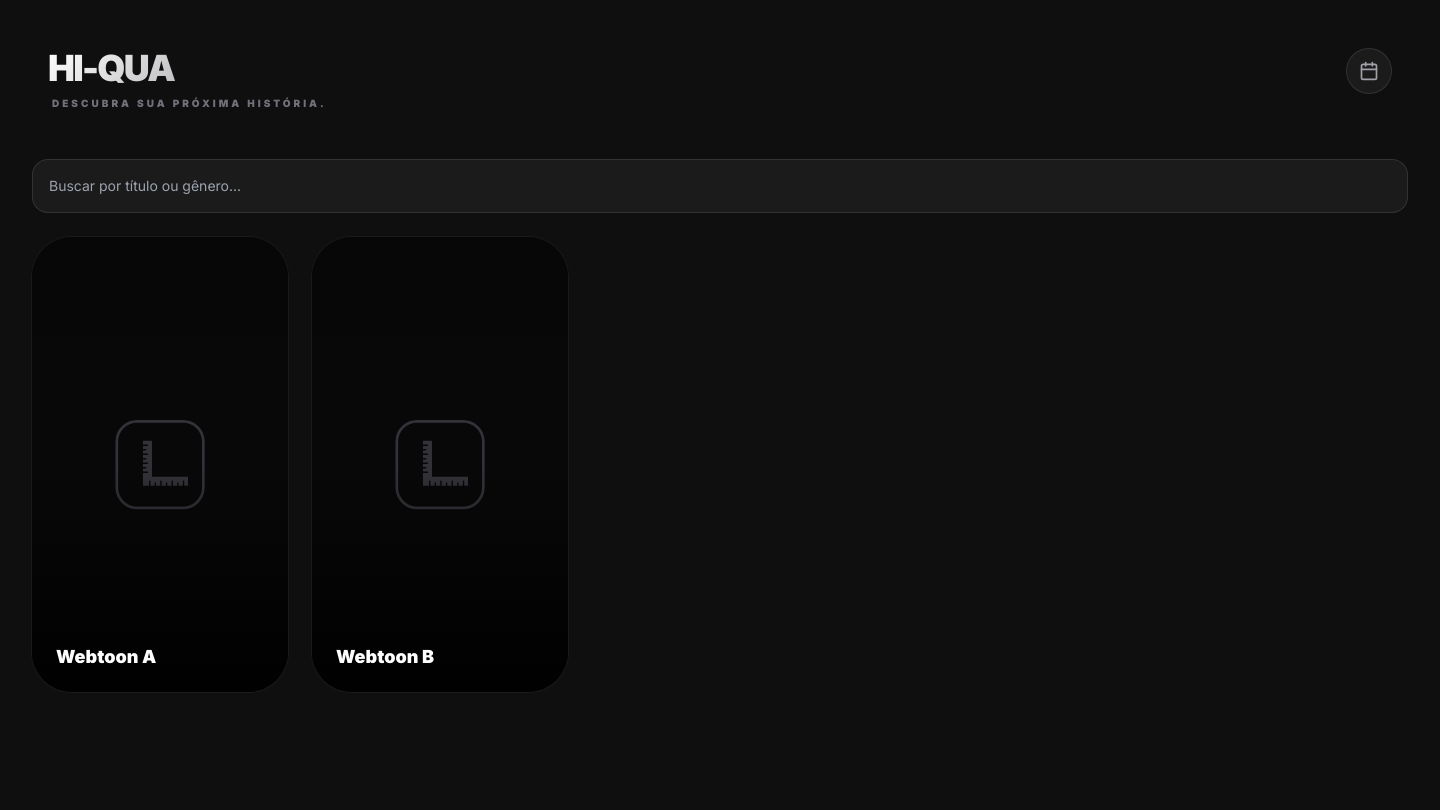
Test case: HiQua — usuário anônimo › exibe episódios após abrir série
The image size is (1440, 810).
Click the heading "Webtoon A": [106, 656] box [56,646,156,667]
(page scrolled)
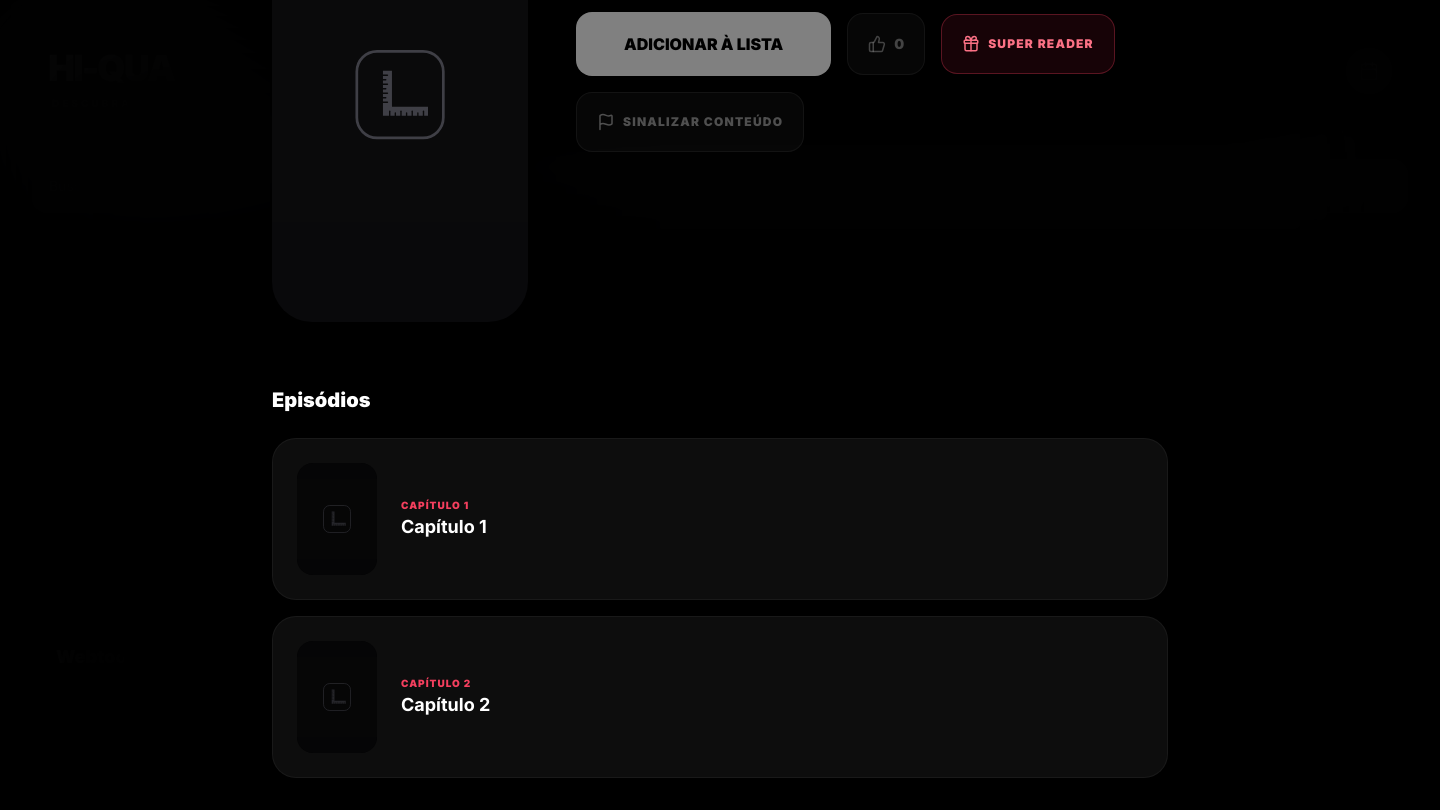
Result: the heading "Episódios" is shown at [272,388,370,412]
Result: the text "Capítulo 1" is shown at [401,498,469,513]
Result: the text "Capítulo 2" is shown at [401,676,471,691]
